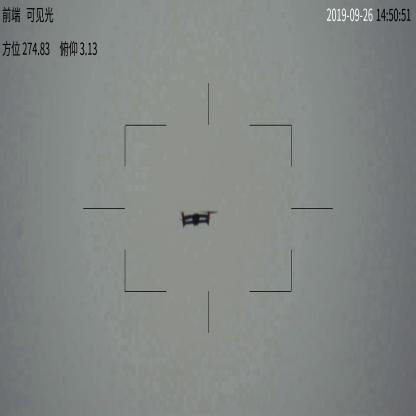uav: (172, 206, 218, 230)
